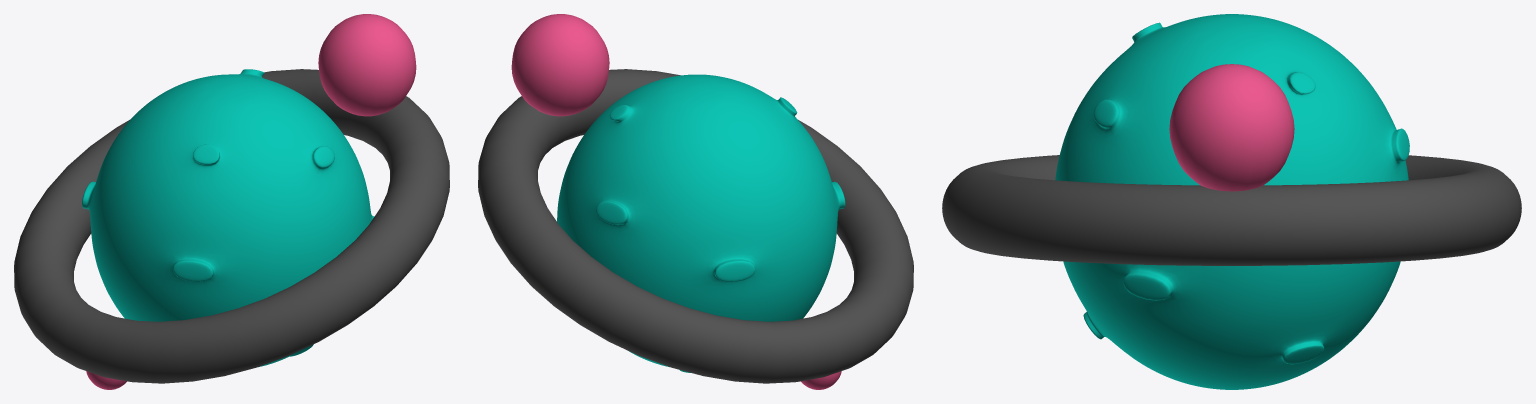
File: planet1.fbx
3 renders of one model, left to right at view 1: azimuth 30°, elevation 25°; view 2: azimuth 150°, elevation 25°; view 3: azimuth 270°, elevation 25°, orthographic. The views are drawn at different scales.
Parts seen in each view (by area): view 1: pSphere12, pTorus2, pSphere14, pSphere13; view 2: pSphere12, pTorus2, pSphere14, pSphere13; view 3: pSphere12, pTorus2, pSphere14.
Boxes of the visible parts, x1=… form: pSphere12: x1=82, y1=69, x2=374, y2=367; pTorus2: x1=14, y1=69, x2=449, y2=383; pSphere14: x1=318, y1=14, x2=416, y2=116; pSphere13: x1=86, y1=371, x2=126, y2=389; pSphere12: x1=557, y1=74, x2=845, y2=372; pTorus2: x1=478, y1=69, x2=913, y2=383; pSphere14: x1=511, y1=14, x2=609, y2=116; pSphere13: x1=801, y1=371, x2=841, y2=389; pSphere12: x1=1055, y1=14, x2=1409, y2=389; pTorus2: x1=942, y1=155, x2=1521, y2=265; pSphere14: x1=1169, y1=64, x2=1294, y2=191.
Size of the model in its own units: 3.07 by 2.42 by 3.26.
